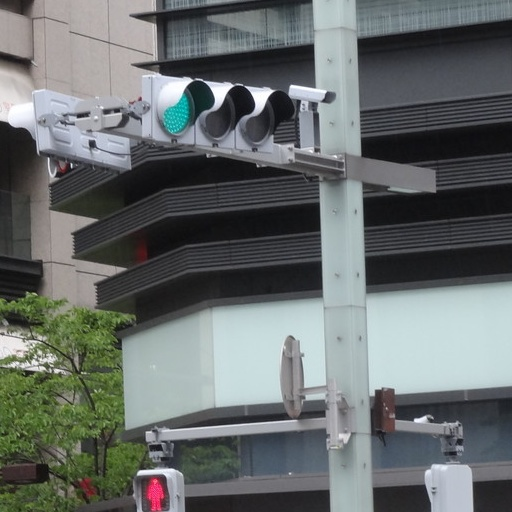Pedestrian_Signal_Red: (128, 453, 196, 510)
Traffic_Signal_Blue: (143, 75, 322, 153)
